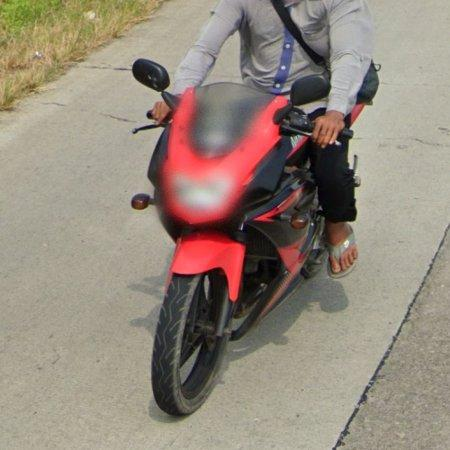motorcycles: (131, 58, 326, 416)
